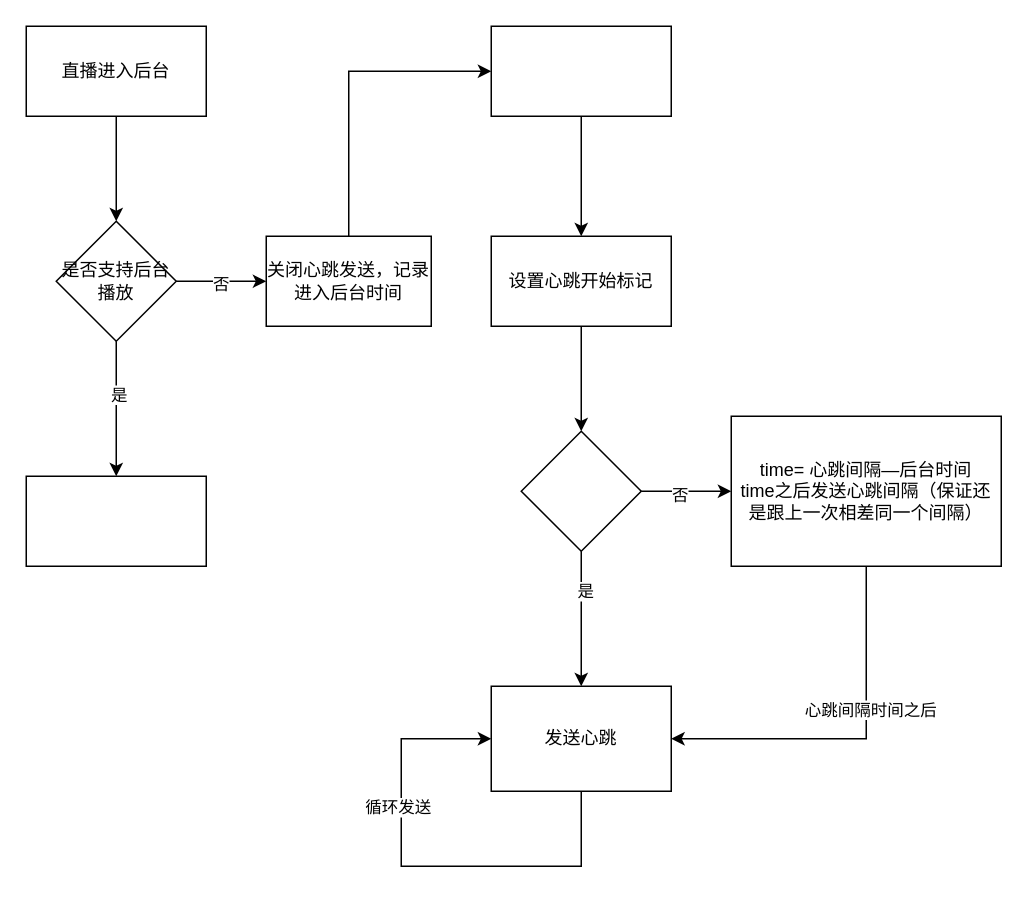
The diagram is 1028 pixels wide and 905 high, and some of its shapes have lost their labels. The shapes that lost their labels are listed below. From the top down, each one's centre as x and y in pixels, then its label:
At point 580,70: "进入直播".
At point 580,490: "后台时间是否超过心跳间隔".
At point 115,520: "正常发送，background=true".
